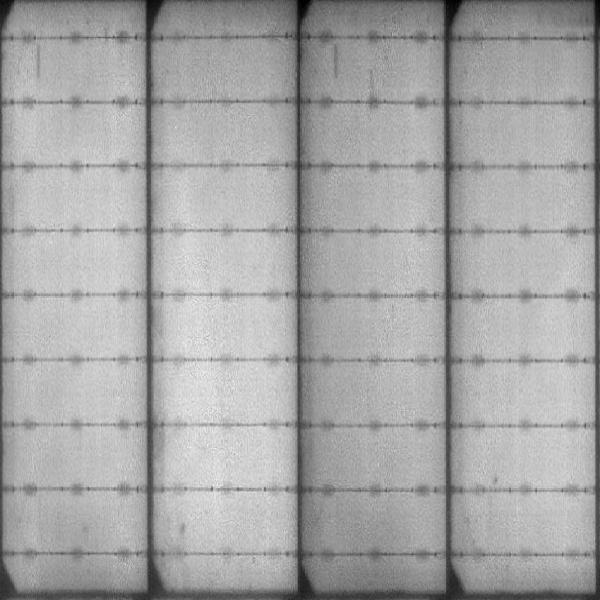scratch: (328, 40, 346, 88), (30, 39, 44, 82)
